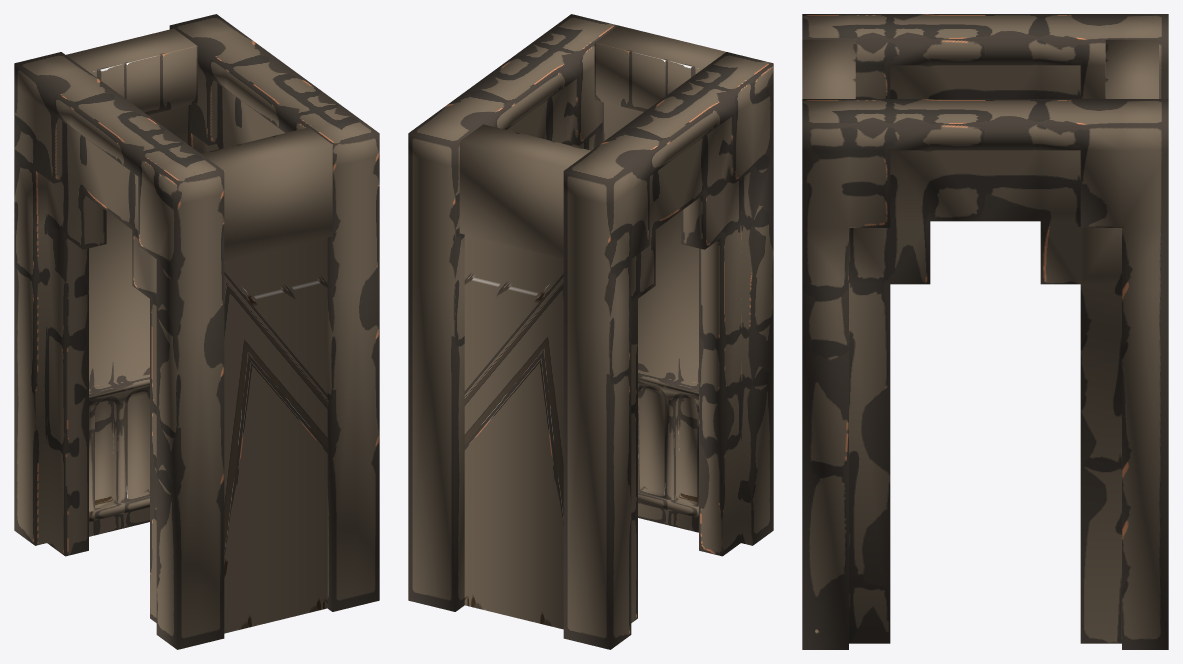
The picture shows the model from 3 angles, left to right: view 1: azimuth 30°, elevation 25°; view 2: azimuth 150°, elevation 25°; view 3: azimuth 270°, elevation 25°; orthographic projection. The views are drawn at different scales.
Parts seen in each view (by area): view 1: arch.001, wall.001, wall.003; view 2: arch.001, wall.003, wall.001; view 3: arch.001, wall.001, wall.003.
Boxes of the visible parts, x1,y1,x2,y2 form: arch.001: [14, 14, 379, 649]; wall.001: [201, 127, 332, 633]; wall.003: [66, 28, 197, 536]; arch.001: [408, 14, 773, 649]; wall.003: [459, 124, 590, 629]; wall.001: [594, 25, 725, 532]; arch.001: [802, 14, 1168, 649]; wall.001: [802, 39, 855, 98]; wall.003: [1105, 39, 1158, 98].
Size of the model in its own units: 860 by 1900 by 1201.
